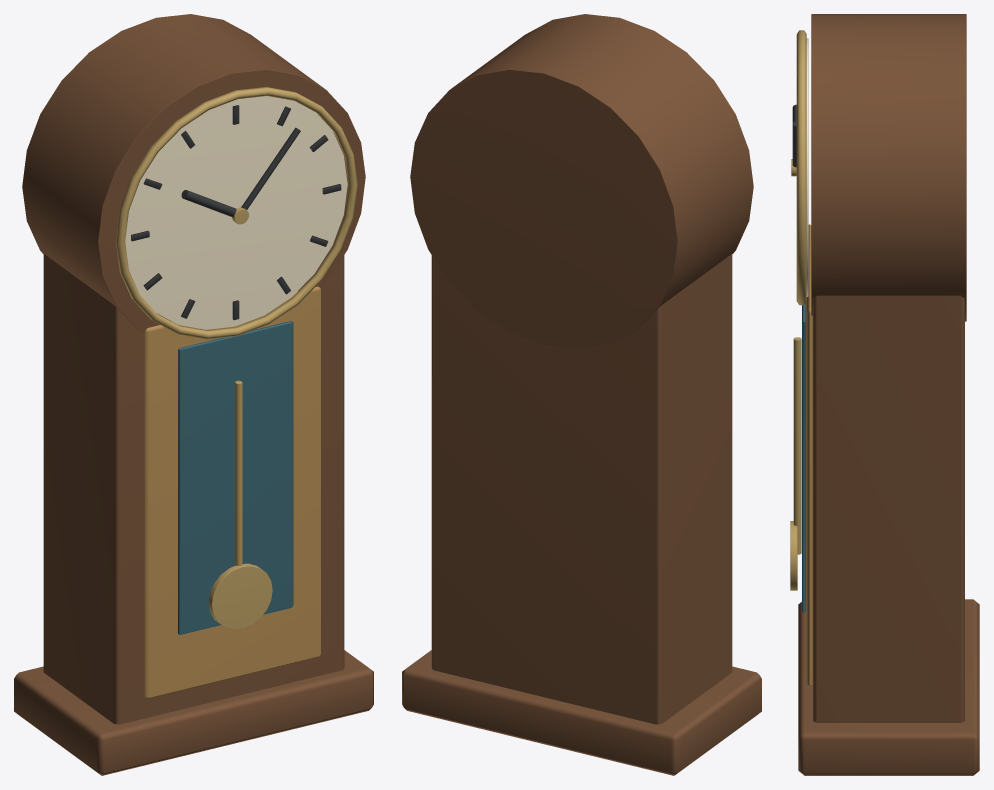
Rendered from S096_giant_clock_rebuilt.glb.
3 renders of one model, left to right at view 1: azimuth 30°, elevation 25°; view 2: azimuth 150°, elevation 25°; view 3: azimuth 270°, elevation 25°, orthographic.
Parts seen in each view (by area): view 1: wood, cream, edge, glass, brass, ink; view 2: wood; view 3: wood, brass, edge, glass, cream.
Boxes of the visible parts, x1,y1,x2,y2 form: wood: (14, 14, 373, 775); cream: (125, 96, 347, 329); edge: (144, 286, 320, 698); glass: (178, 321, 293, 634); brass: (115, 87, 357, 629); ink: (131, 105, 341, 320); wood: (402, 14, 761, 775); wood: (798, 14, 979, 775); brass: (790, 30, 806, 590); edge: (806, 224, 812, 687); glass: (802, 303, 805, 612); cream: (806, 38, 808, 296).
Size of the model in its own units: 1.23 by 2.83 by 0.714.
